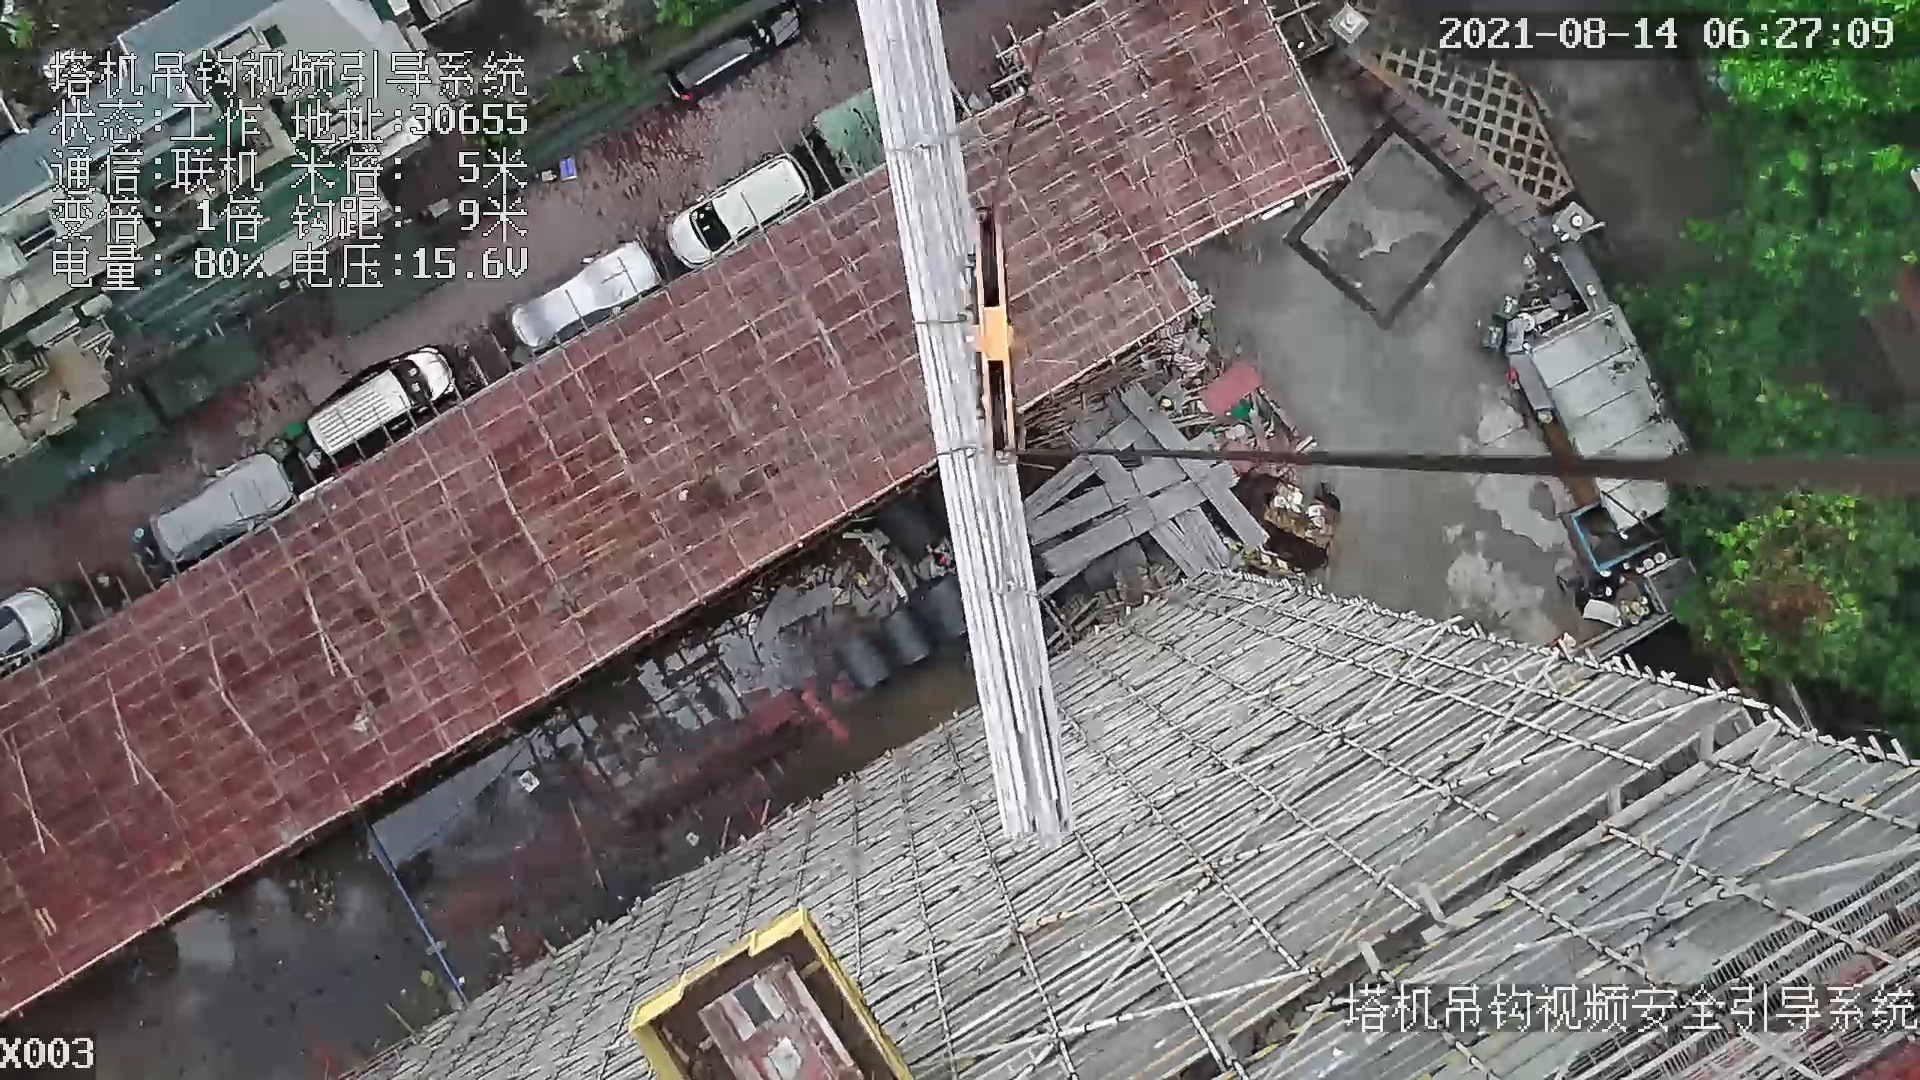hook: (963, 200, 1036, 459)
